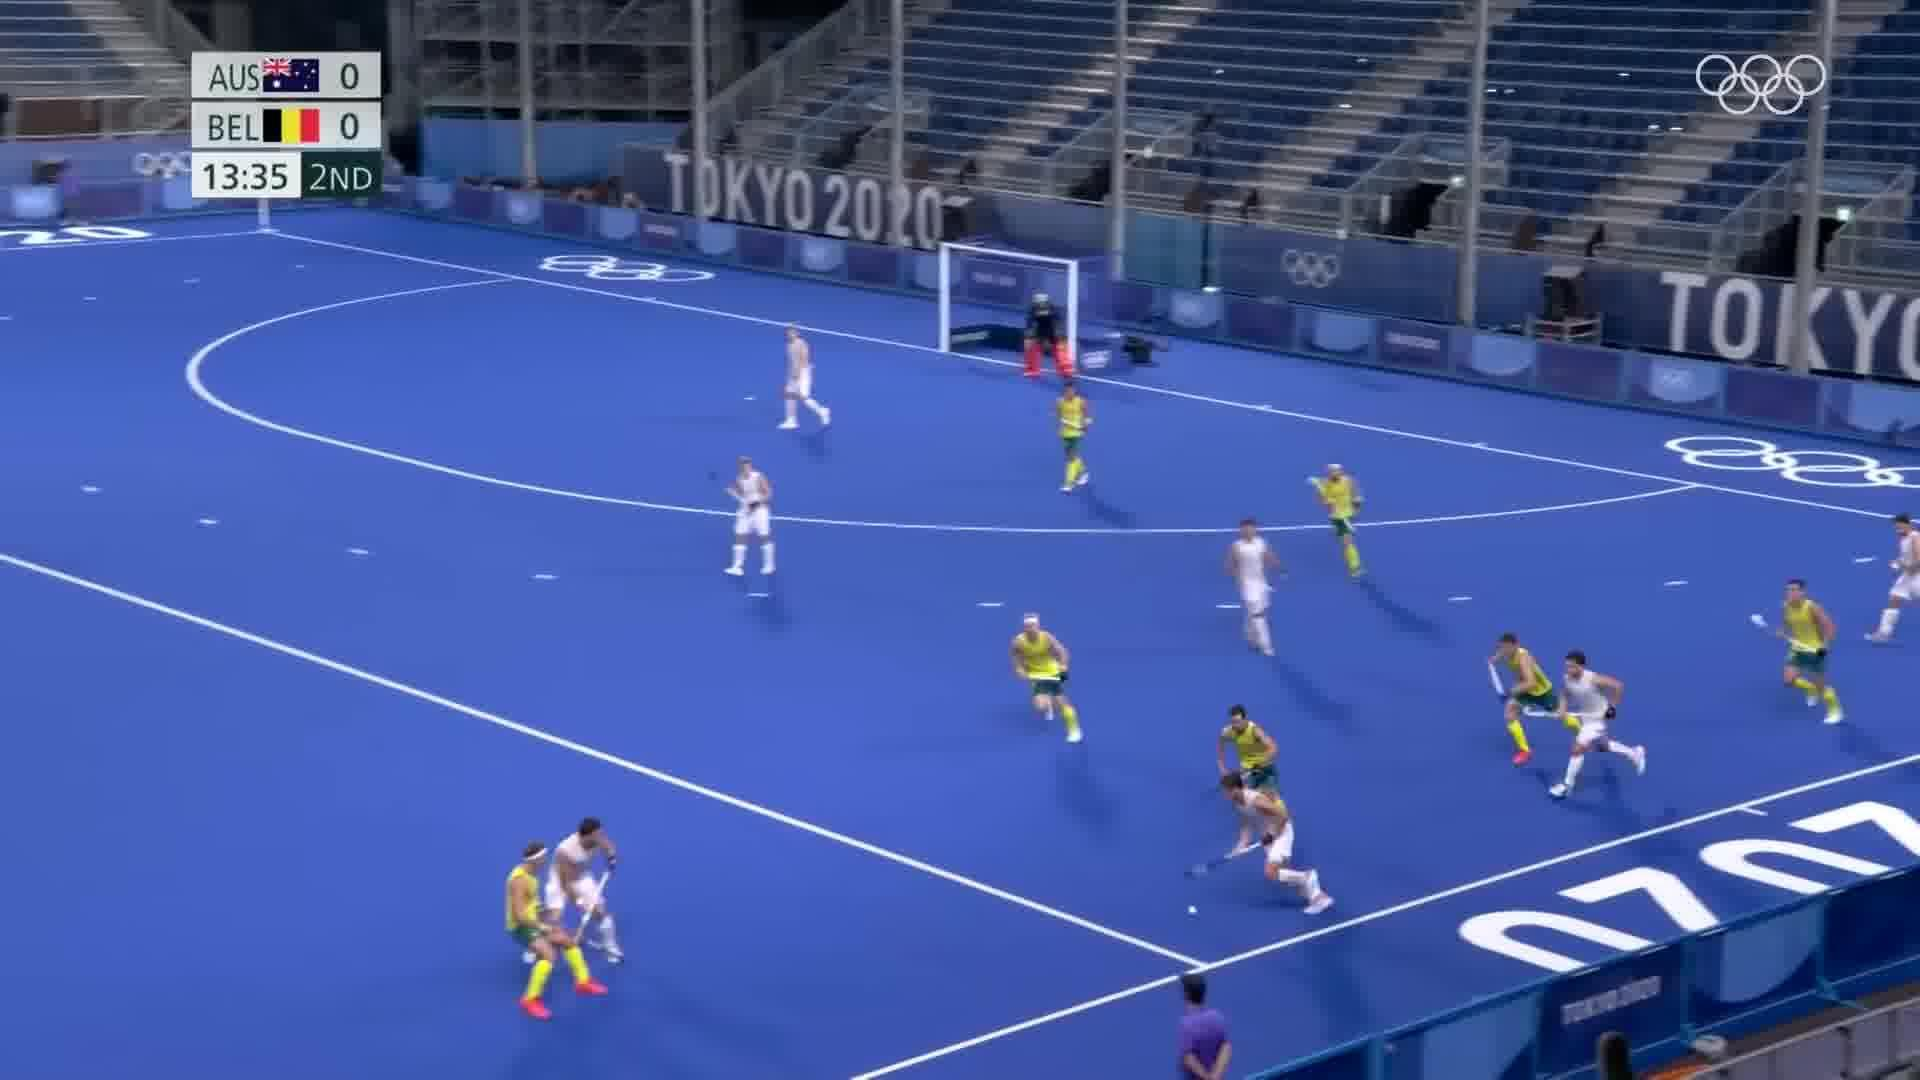ball: (1182, 895, 1201, 922)
